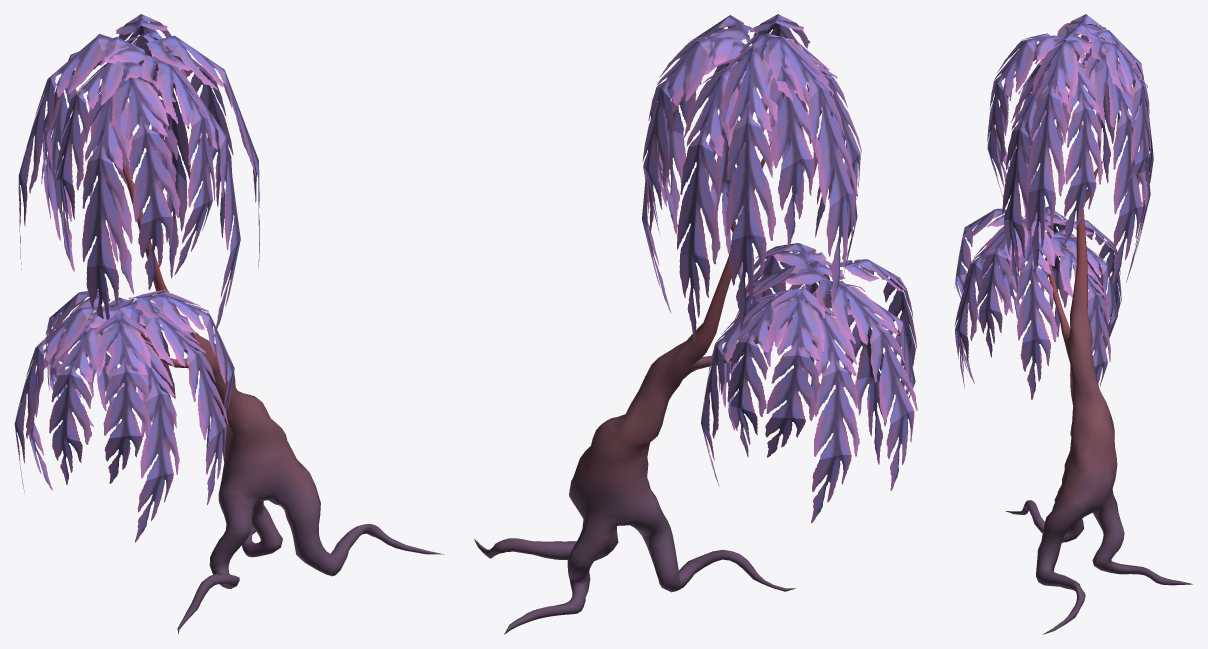
Rendered from MSH_Tree_2.fbx.
The picture shows the model from 3 angles, left to right: view 1: azimuth 30°, elevation 25°; view 2: azimuth 150°, elevation 25°; view 3: azimuth 270°, elevation 25°; orthographic projection. The views are drawn at different scales.
Visible parts, largest first — view 1: Leaves_5_Leaves_2_02, Tree_Low2; view 2: Leaves_5_Leaves_2_02, Tree_Low2; view 3: Leaves_5_Leaves_2_02, Tree_Low2.
Boxes of the visible parts, x1=… form: Leaves_5_Leaves_2_02: x1=14, y1=14, x2=259, y2=542; Tree_Low2: x1=114, y1=161, x2=444, y2=634; Leaves_5_Leaves_2_02: x1=642, y1=14, x2=917, y2=523; Tree_Low2: x1=474, y1=141, x2=830, y2=634; Leaves_5_Leaves_2_02: x1=954, y1=14, x2=1153, y2=399; Tree_Low2: x1=1005, y1=122, x2=1192, y2=634.
Size of the model in its own units: 353 by 462 by 207.
